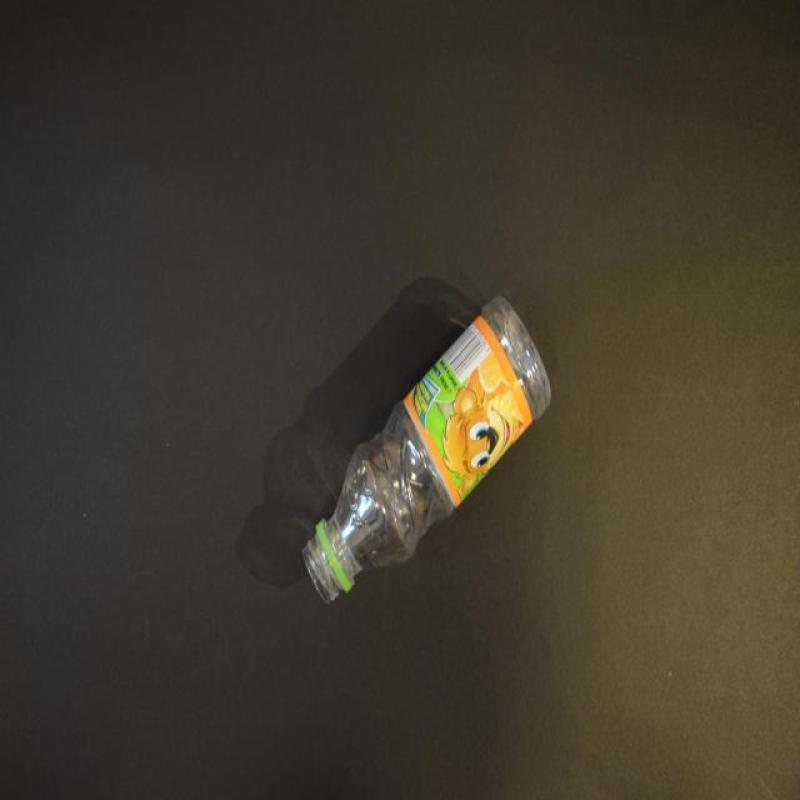botella: (302, 295, 552, 604)
